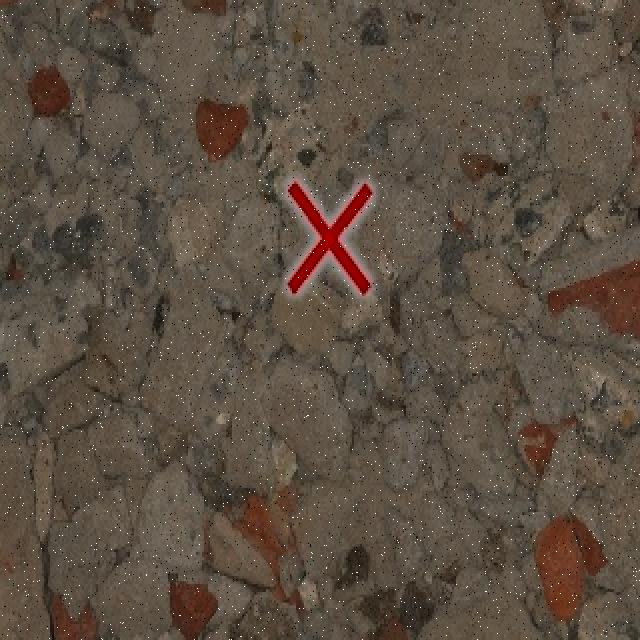x_marker: (287, 180, 371, 292)
